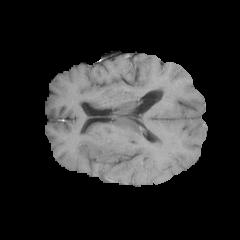glioma: (82, 136, 176, 173)
